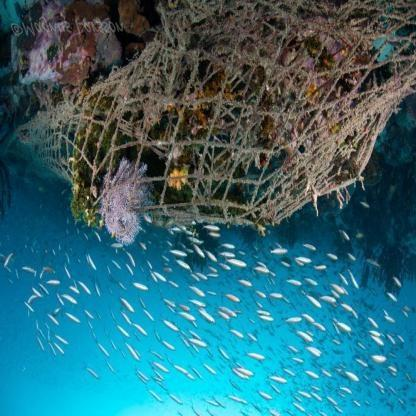net: (78, 0, 404, 216)
